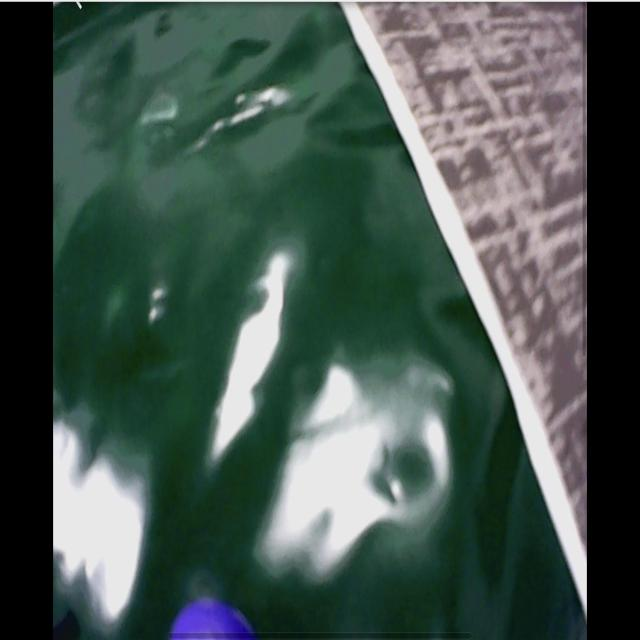ball: (170, 602, 251, 640)
